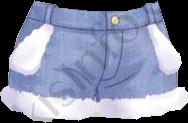Hemline: (0, 94, 98, 122), (98, 101, 187, 118)
Pantleg: (0, 1, 107, 119), (97, 1, 187, 118)
Waistline: (26, 16, 163, 31), (34, 0, 157, 13), (8, 86, 97, 100), (97, 85, 178, 99)
